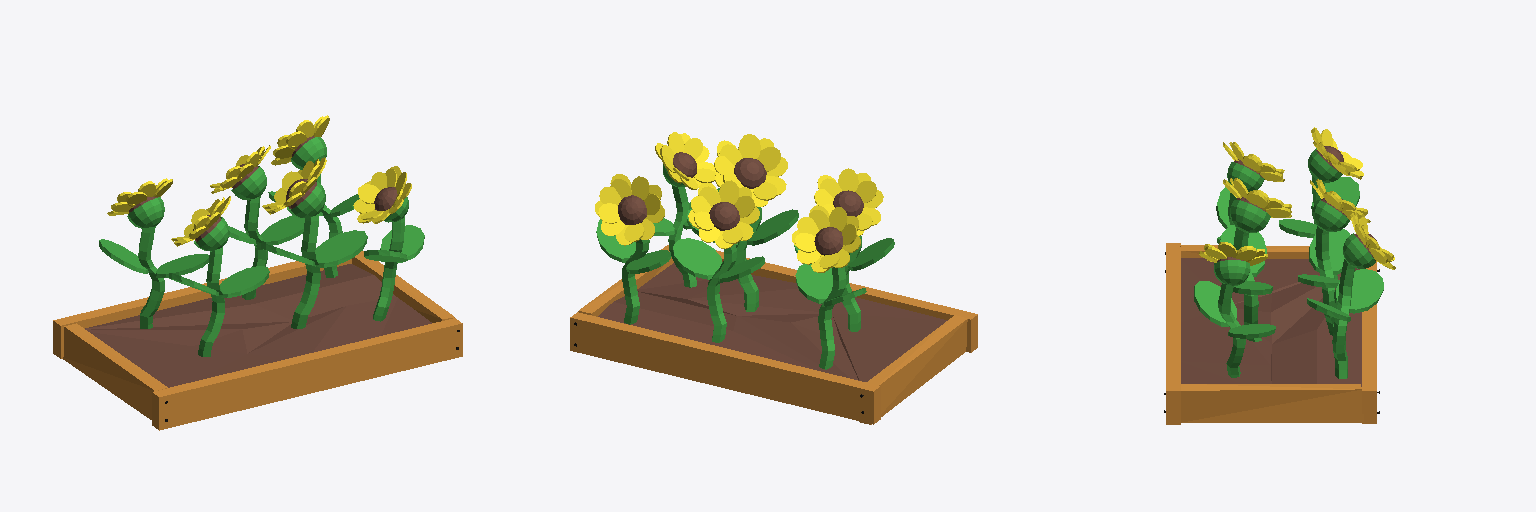
3 renders of one model, left to right at view 1: azimuth 30°, elevation 25°; view 2: azimuth 150°, elevation 25°; view 3: azimuth 270°, elevation 25°, orthographic.
Parts seen in each view (by area): view 1: group[number redacted], group[number redacted], group[number redacted], group[number redacted], group[number redacted], group[number redacted], group[number redacted]; view 2: group[number redacted], group[number redacted], group[number redacted], group[number redacted], group[number redacted], group[number redacted], group[number redacted]; view 3: group[number redacted], group[number redacted], group[number redacted], group[number redacted], group[number redacted], group[number redacted], group[number redacted].
Part boxes in pixels (x1,y1,x2,y2): group[number redacted]: (53,251,462,430); group[number redacted]: (261,157,367,328); group[number redacted]: (353,166,424,321); group[number redacted]: (99,178,208,328); group[number redacted]: (169,196,269,356); group[number redacted]: (210,145,304,299); group[number redacted]: (268,115,359,277); group[number redacted]: (570,245,977,424); group[number redacted]: (673,180,764,342); group[number redacted]: (595,174,671,324); group[number redacted]: (792,206,866,369); group[number redacted]: (687,134,798,311); group[number redacted]: (794,168,894,331); group[number redacted]: (653,132,719,287); group[number redacted]: (1164,243,1379,424); group[number redacted]: (1307,212,1395,378); group[number redacted]: (1194,242,1275,377); group[number redacted]: (1220,178,1291,341); group[number redacted]: (1298,179,1370,335); group[number redacted]: (1279,127,1363,278); group[number redacted]: (1216,142,1284,243).
Bounding box in the file's own units: 5.05 × 3.05 × 3.3.